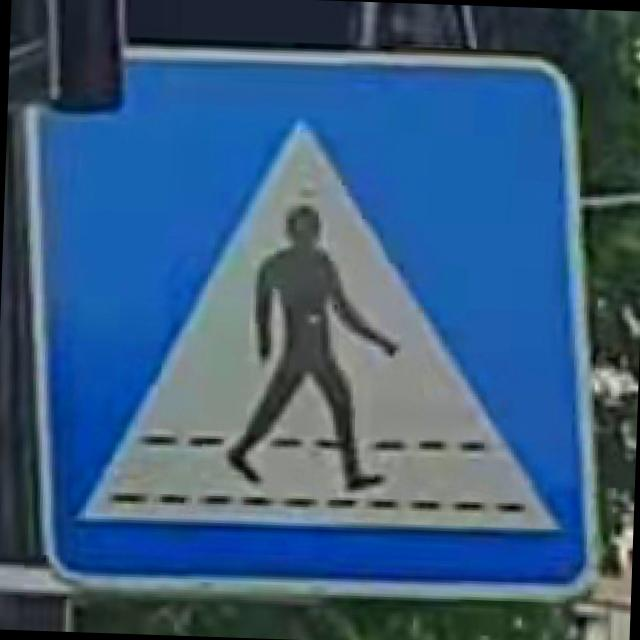zebracrossing_sign: (0, 32, 619, 606)
